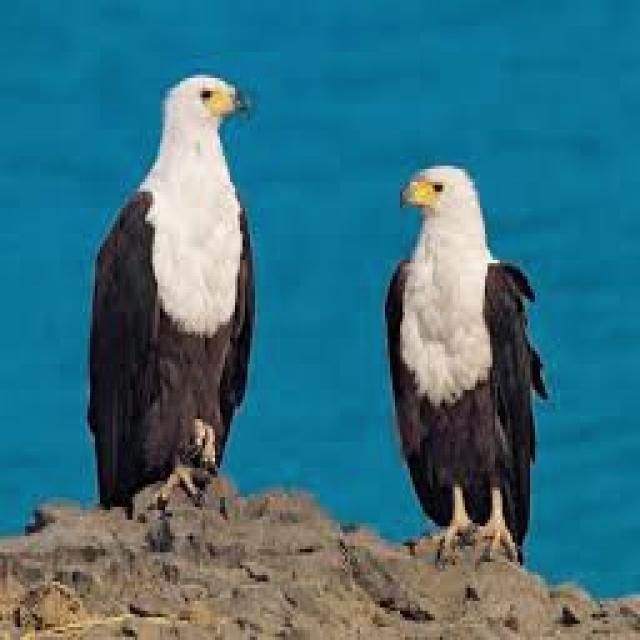eagle: (88, 75, 252, 507), (385, 166, 545, 559)
